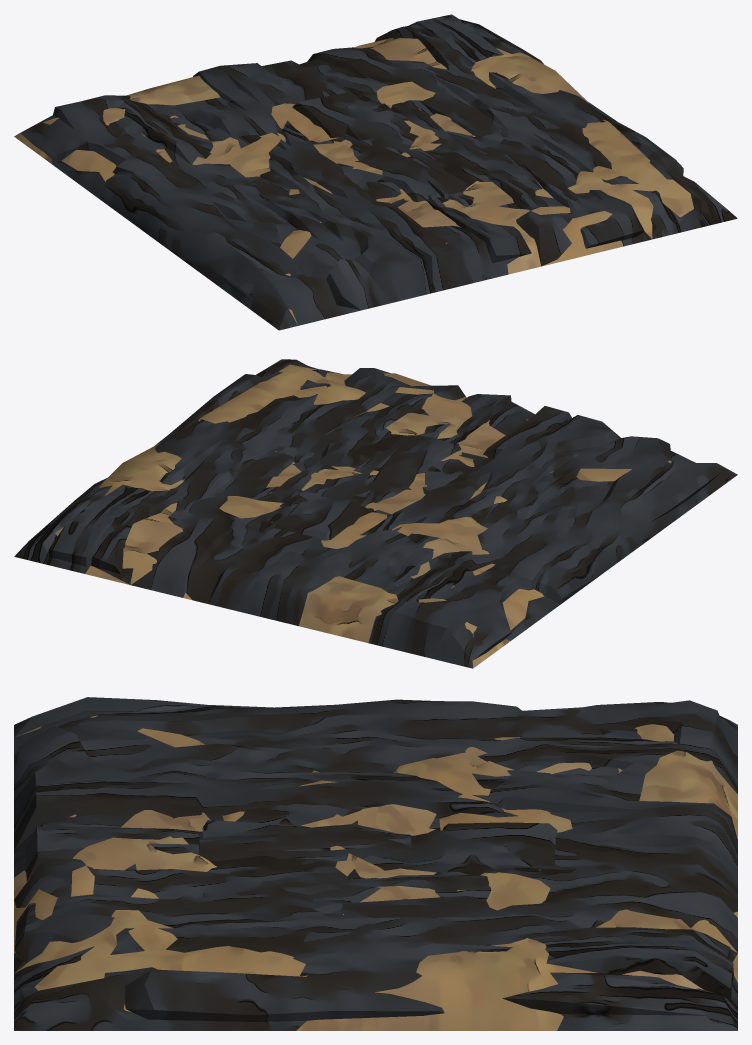
The model's file is Ground_01.fbx.
3 views of the same model, one above another, from view 1: azimuth 30°, elevation 25°; view 2: azimuth 150°, elevation 25°; view 3: azimuth 270°, elevation 25° (orthographic). The views are drawn at different scales.
Visible parts, largest first — view 1: Rock_10x10_A, Ground_10x10_A, Rock_5x5_A, Ground_5x5_A; view 2: Rock_10x10_A, Ground_10x10_A, Rock_5x5_A, Ground_5x5_A; view 3: Rock_10x10_A, Ground_10x10_A, Rock_5x5_A, Ground_5x5_A.
Part boxes in pixels (x1,y1,x2,y2): Rock_10x10_A: (16, 14, 737, 330); Ground_10x10_A: (14, 38, 693, 324); Rock_5x5_A: (204, 92, 526, 207); Ground_5x5_A: (288, 108, 420, 203); Rock_10x10_A: (14, 359, 737, 668); Ground_10x10_A: (55, 364, 671, 668); Rock_5x5_A: (248, 419, 502, 566); Ground_5x5_A: (269, 454, 507, 514); Rock_10x10_A: (14, 697, 737, 1030); Ground_10x10_A: (14, 715, 737, 1030); Rock_5x5_A: (195, 770, 557, 912); Ground_5x5_A: (222, 770, 466, 890).
Bounding box in the file's own units: 11.04 × 0.8107 × 11.
